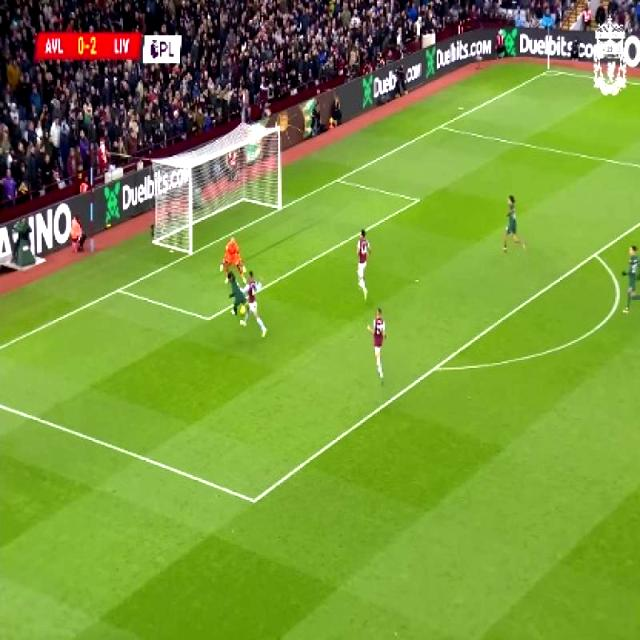bigarea_bottom_inner: (242, 483, 264, 517)
bigarea_top_outter: (432, 115, 450, 135)
bottom_arc_area_intersection: (424, 352, 446, 382)
corner: (540, 62, 560, 76)
smallarea_bottom_inner: (198, 303, 217, 331)
smallarea_bottom_outter: (108, 275, 129, 302)
smallarea_top_inner: (408, 186, 426, 211)
smallarea_top_outter: (328, 168, 346, 190)
top_arc_area_intersection: (586, 242, 604, 263)
